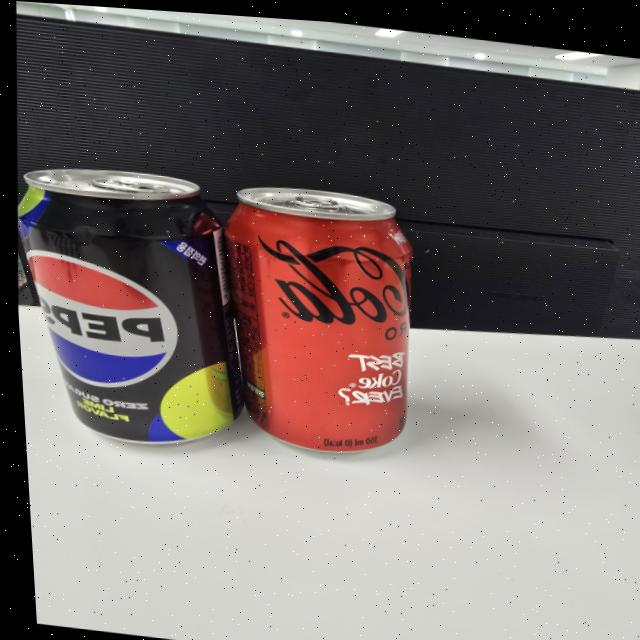can_coke_zero: (215, 187, 422, 453)
can_pepsi_zero: (19, 166, 240, 446)
